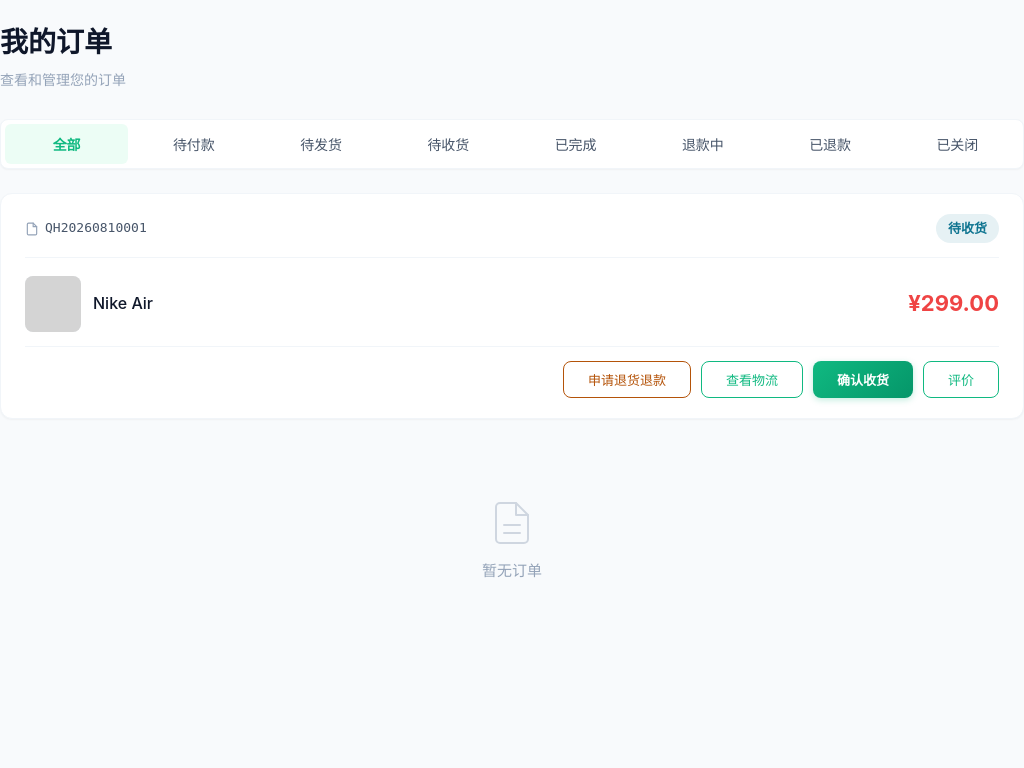
Orders 订单中心页 › 退款申请弹窗（P2-18） › 已发货订单点击申请退货退款打开弹窗并展示类型
Click the button with class "btn-refund". click: (627,380)
box: x1=563 y1=361 x2=691 y2=398
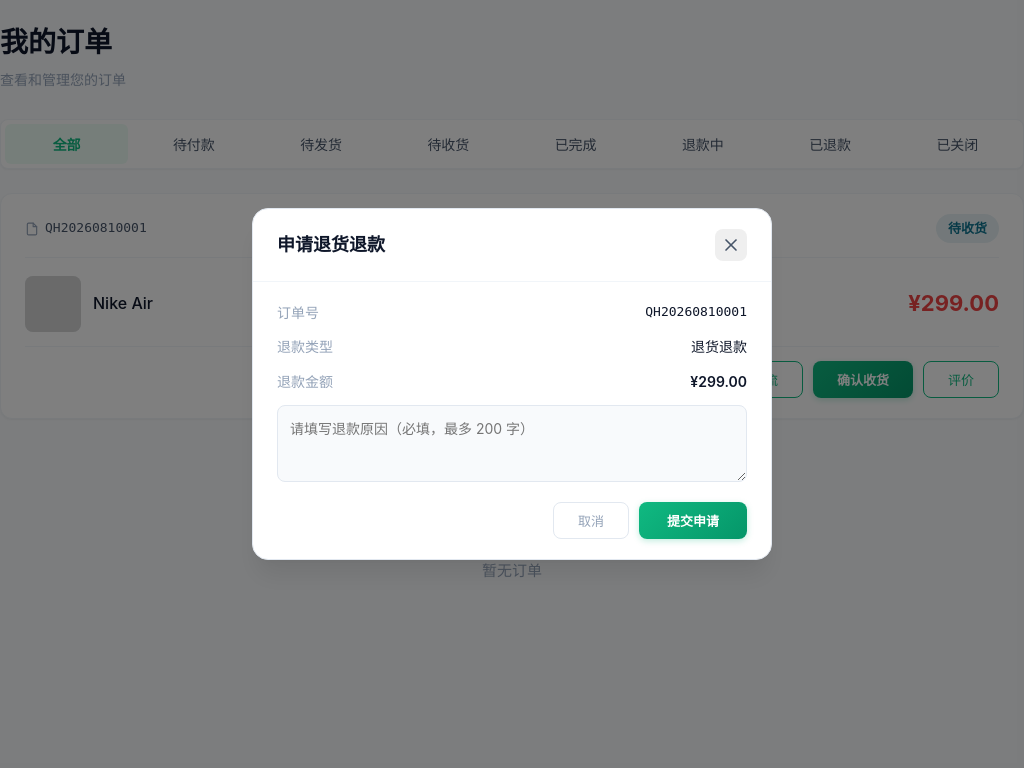
Expected: the text "QH20260810001" is shown, x1=45 y1=218 x2=147 y2=239
Now the heading "申请退货退款" is shown, box x1=277 y1=230 x2=385 y2=259
